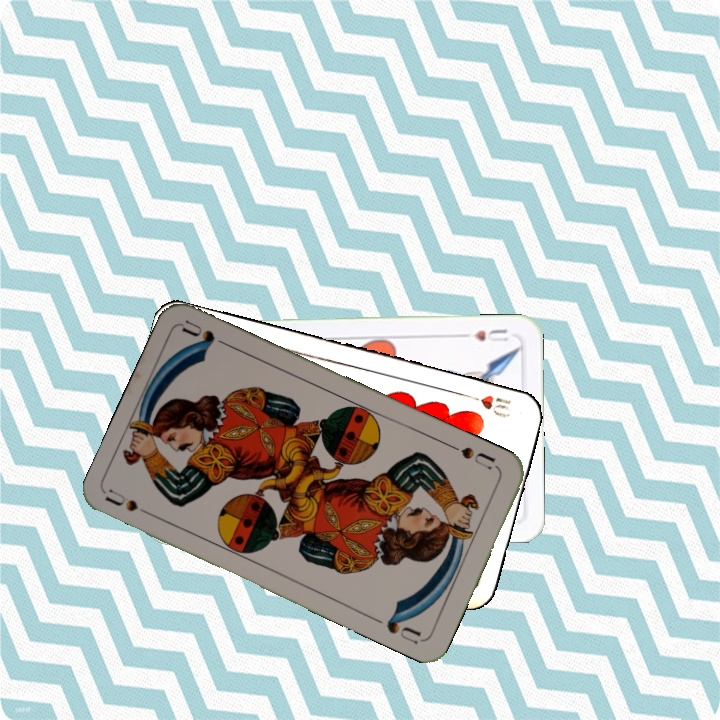H10: (459, 389, 514, 420)
HU: (470, 325, 512, 344)
SU: (103, 485, 160, 521), (446, 440, 498, 472)
